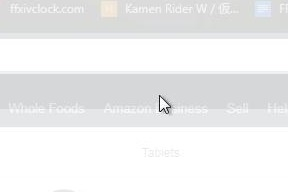cursor: (157, 93, 172, 116)
